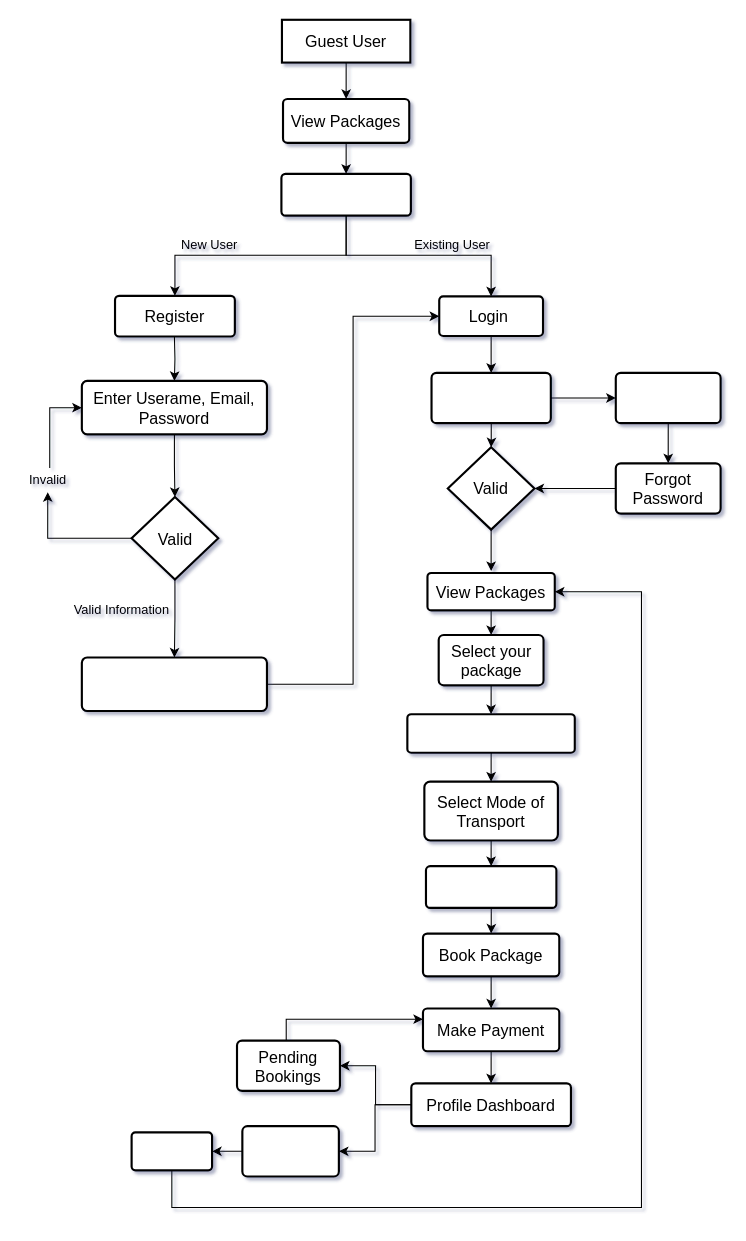
Image size: 746x1241. Some labels were removed from this diagram. Each missing label, with the centre of its shape:
Change Password: (x=667, y=397)
Completed Bookings: (x=290, y=1151)
Enter Email, Password: (x=490, y=397)
Feedback: (x=171, y=1151)
Select Destination: (x=490, y=733)
Select Hotel: (x=490, y=886)
Select Package: (x=345, y=194)
Successfully Registered: (x=174, y=684)
